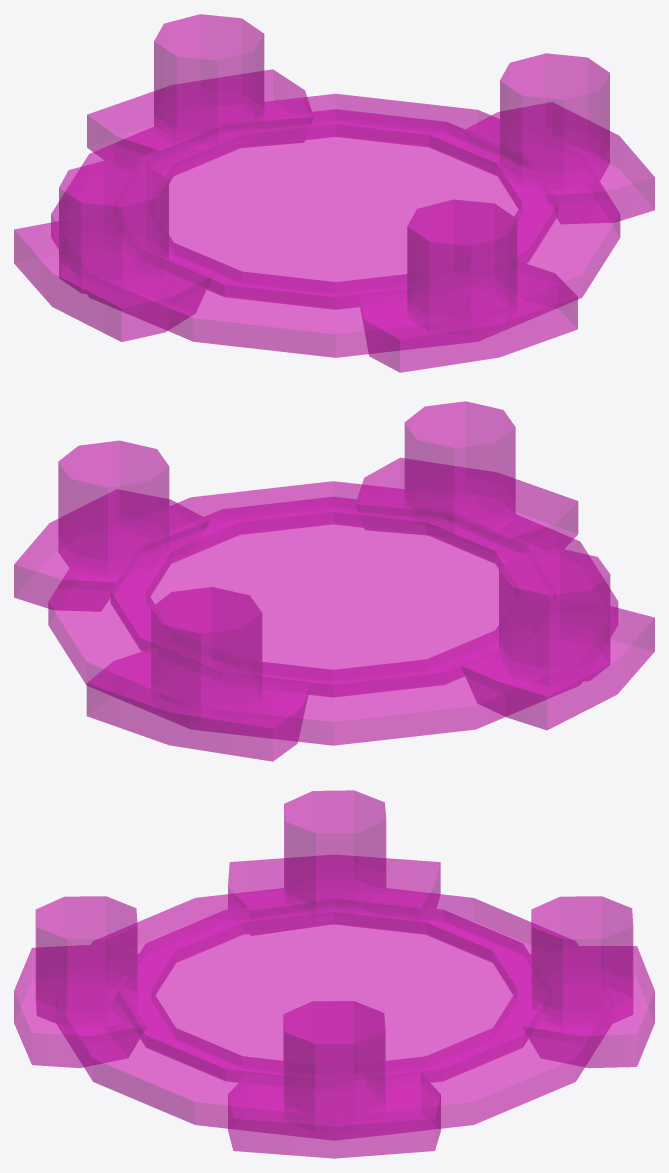
Rendered from SM_Prop_Ritual_Circle_01_Collision.fbx.
3 views of the same model, one above another, from view 1: azimuth 30°, elevation 25°; view 2: azimuth 150°, elevation 25°; view 3: azimuth 270°, elevation 25° (orthographic). The views are drawn at different scales.
Visible parts, largest first — view 1: SM_Prop_Ritual_Circle_01_Collision; view 2: SM_Prop_Ritual_Circle_01_Collision; view 3: SM_Prop_Ritual_Circle_01_Collision.
Boxes of the visible parts, box(x1,y1,x2,y2) form: SM_Prop_Ritual_Circle_01_Collision: box(14, 14, 654, 372); SM_Prop_Ritual_Circle_01_Collision: box(14, 401, 654, 761); SM_Prop_Ritual_Circle_01_Collision: box(14, 790, 654, 1158).
Size of the model in its own units: 612 by 111 by 612.
